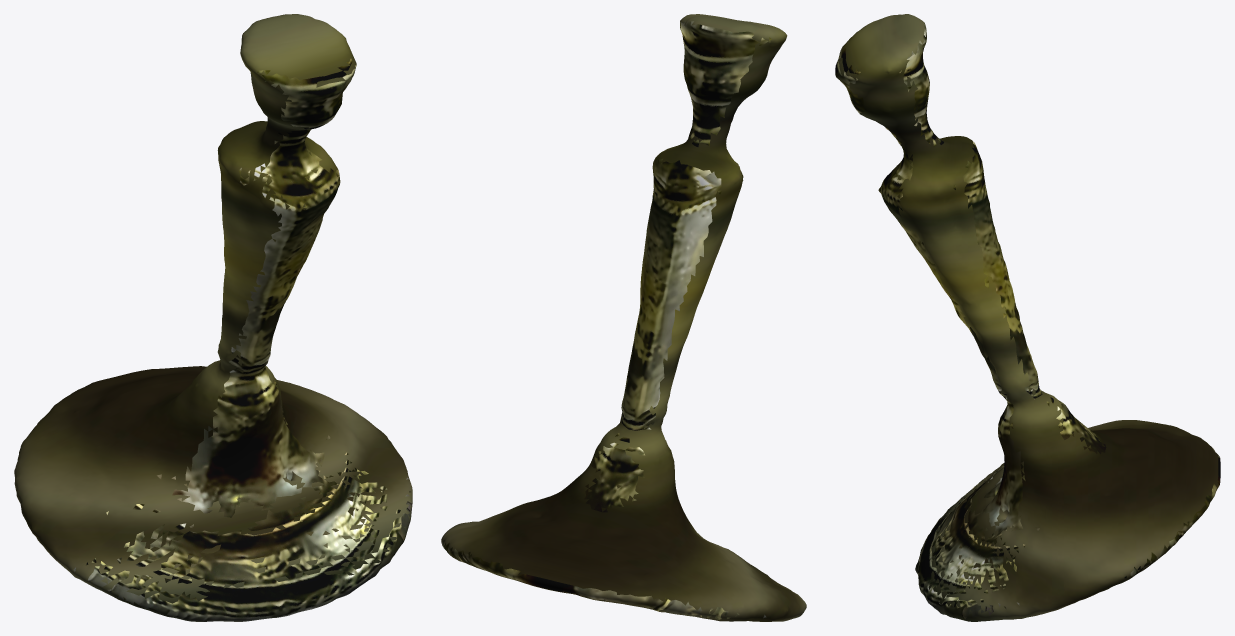
The model's file is kfl-2154.glb.
The picture shows the model from 3 angles, left to right: view 1: azimuth 30°, elevation 25°; view 2: azimuth 150°, elevation 25°; view 3: azimuth 270°, elevation 25°; orthographic projection. The views are drawn at different scales.
Visible parts, largest first — view 1: kfl-2154; view 2: kfl-2154; view 3: kfl-2154.
Boxes of the visible parts, x1,y1,x2,y2 form: kfl-2154: [14, 14, 412, 621]; kfl-2154: [441, 14, 806, 621]; kfl-2154: [835, 14, 1220, 621].
Bounding box in the file's own units: 0.617 × 0.9961 × 0.6359.
Materials: 4 (4 with a texture image).
